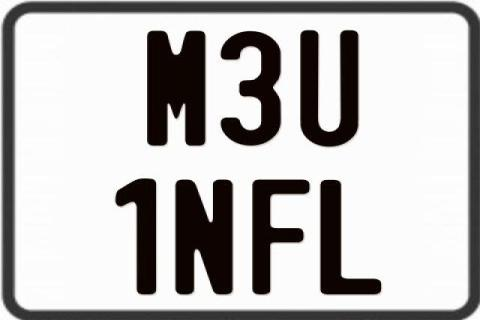0: (219, 31, 284, 151), (115, 176, 159, 294)
F: (249, 177, 307, 297)
L: (320, 180, 386, 296)
M: (145, 28, 203, 143)
N: (172, 179, 234, 295)
U: (300, 29, 362, 148)
